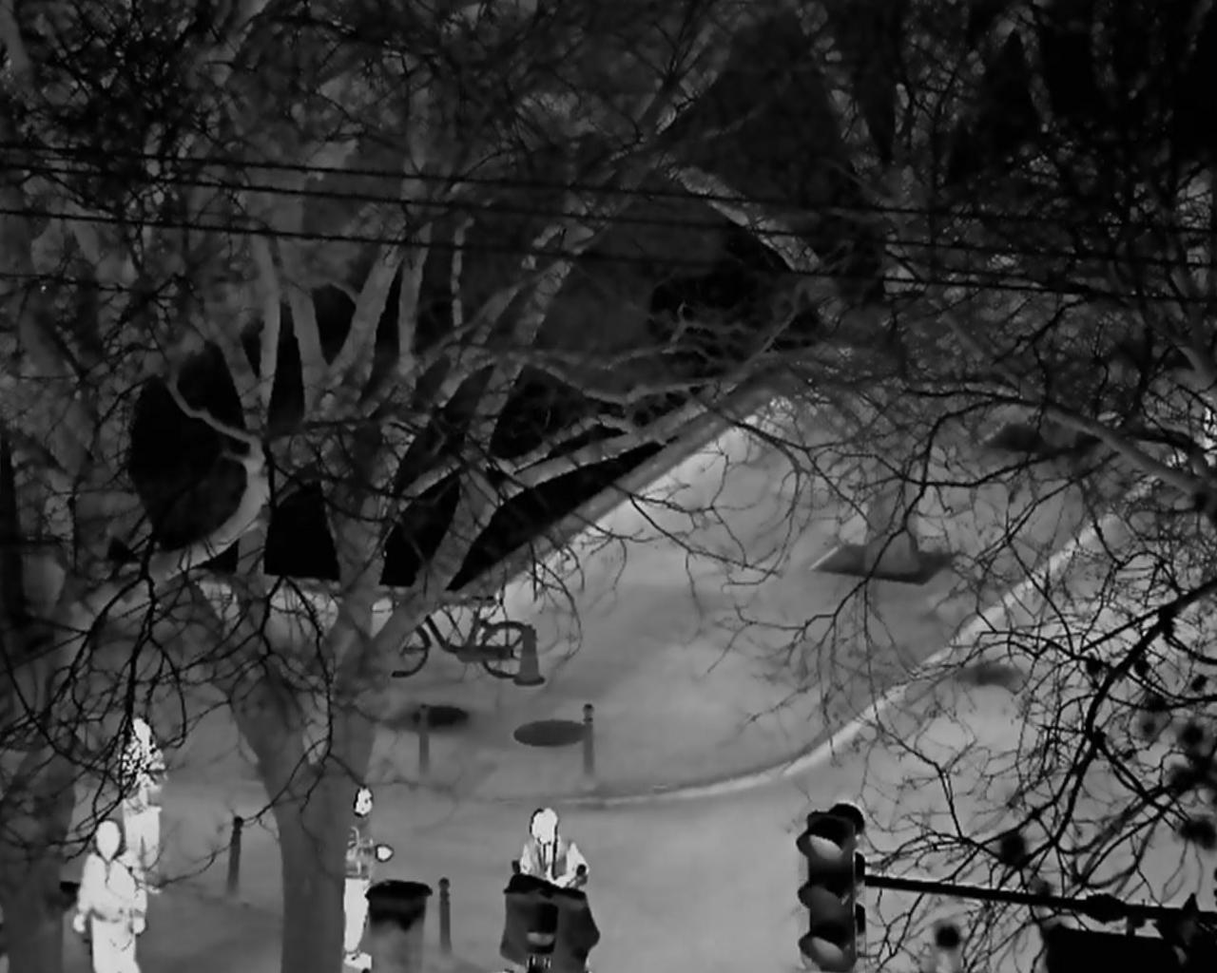person: (73, 818, 147, 973), (344, 784, 395, 972), (119, 719, 170, 898), (519, 806, 590, 899)
